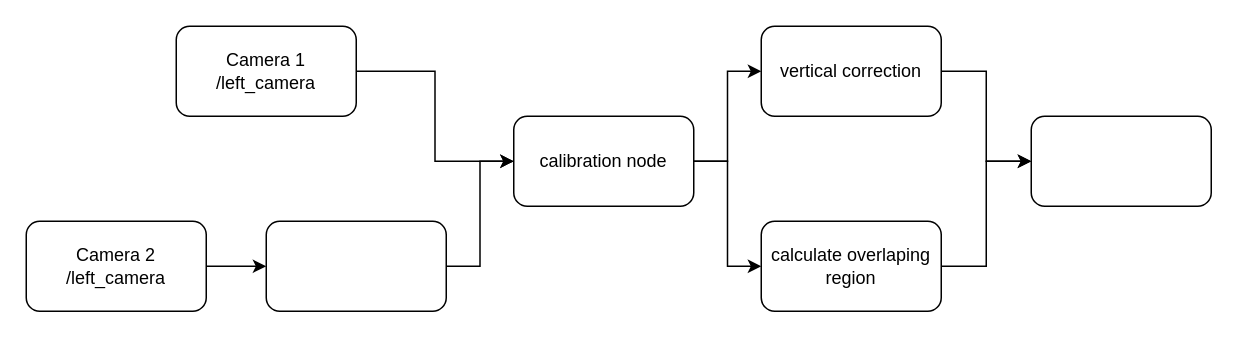
This 1238x338 diagram has some shape labels left out. Each missing label, with the centre of its shape:
"180 degree rotation" belongs at [355,265].
"save in .txt file" belongs at [1120,160].
